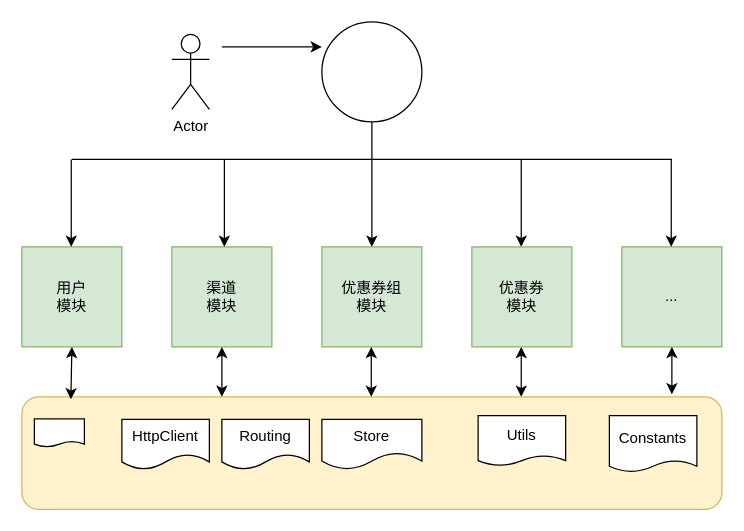
Image size: 744x531. Some labels were removed from this diagram. The box of each missing label's shape, as (x1, y1, x2, y2) in pixels:
PUI: (33, 418, 84, 447)
路由入口: (321, 21, 422, 122)
